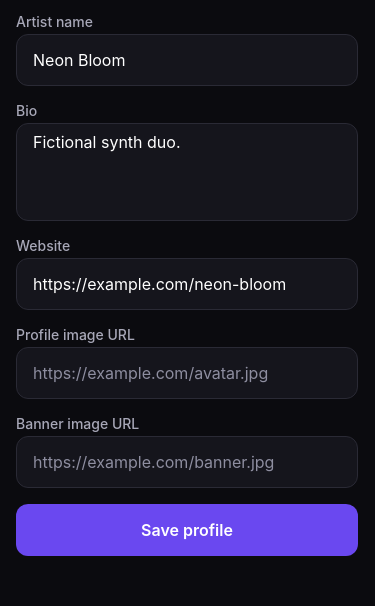
Test: ArtistProfileScreen › does not patch the name when it is unchanged
The image size is (375, 606).
Click the button with test id "profile-save": (187, 530) [16,504,358,556]
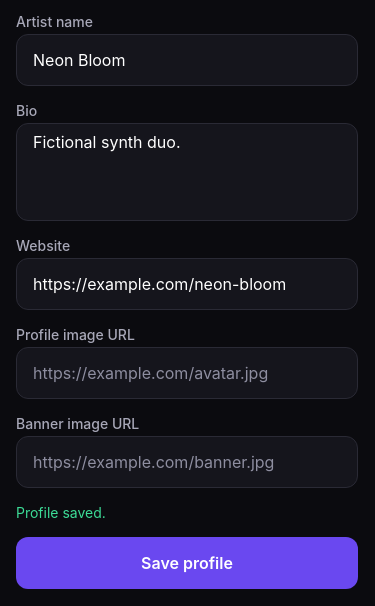
Result: the text "Profile saved." is shown at [16,504,106,521]
